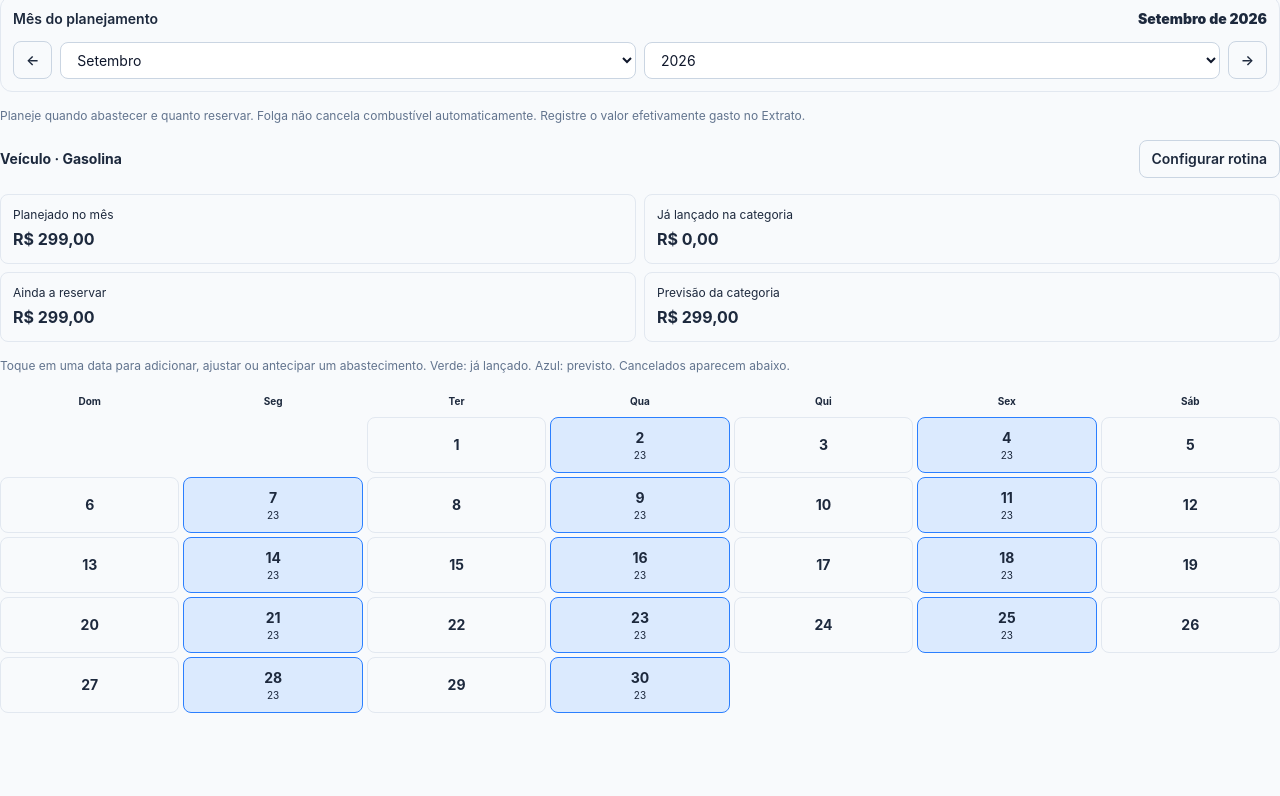
Test: antecipa sexta para quinta com valor parcial e mostra o resultado salvo
Click the button named "Abastecimento 11/09": click(1007, 505) top-left (917, 477), bottom-right (1096, 533)
(page scrolled)
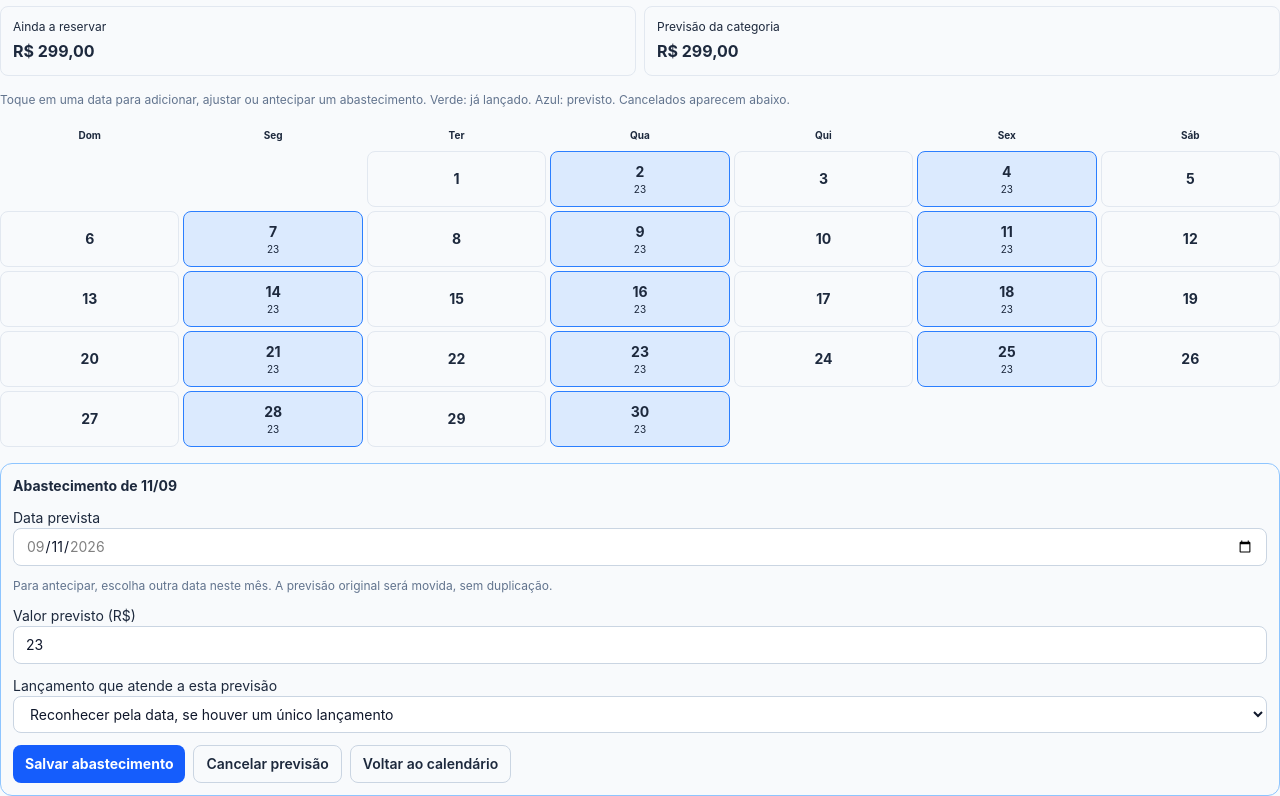
In the date field labelled "Data prevista": (640, 547) top-left (13, 528), bottom-right (1267, 566), type "2026-09-10"
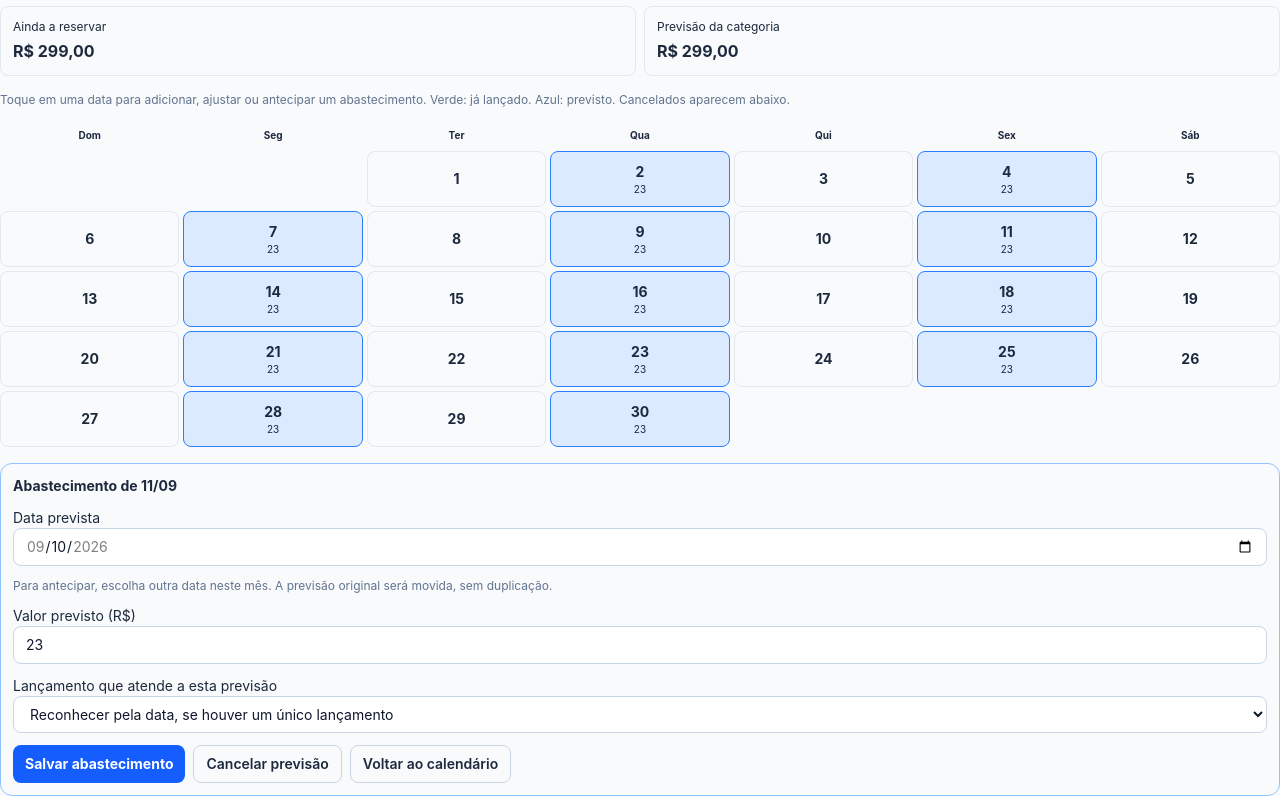
Replace the text in the number field labelled "Valor previsto (R$)" with "11.50": (640, 645) top-left (13, 626), bottom-right (1267, 664)
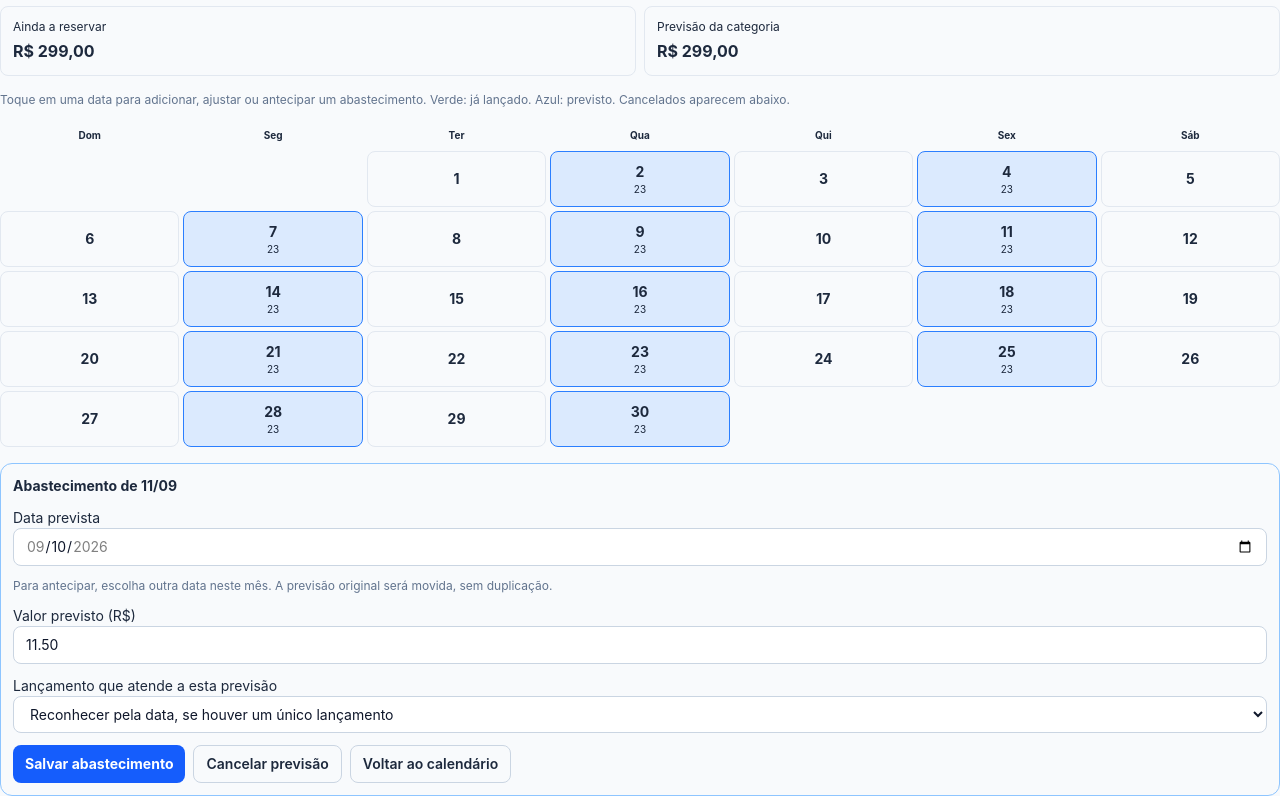
Click the button "Salvar abastecimento": click(99, 764) top-left (13, 745), bottom-right (186, 783)
(page scrolled)
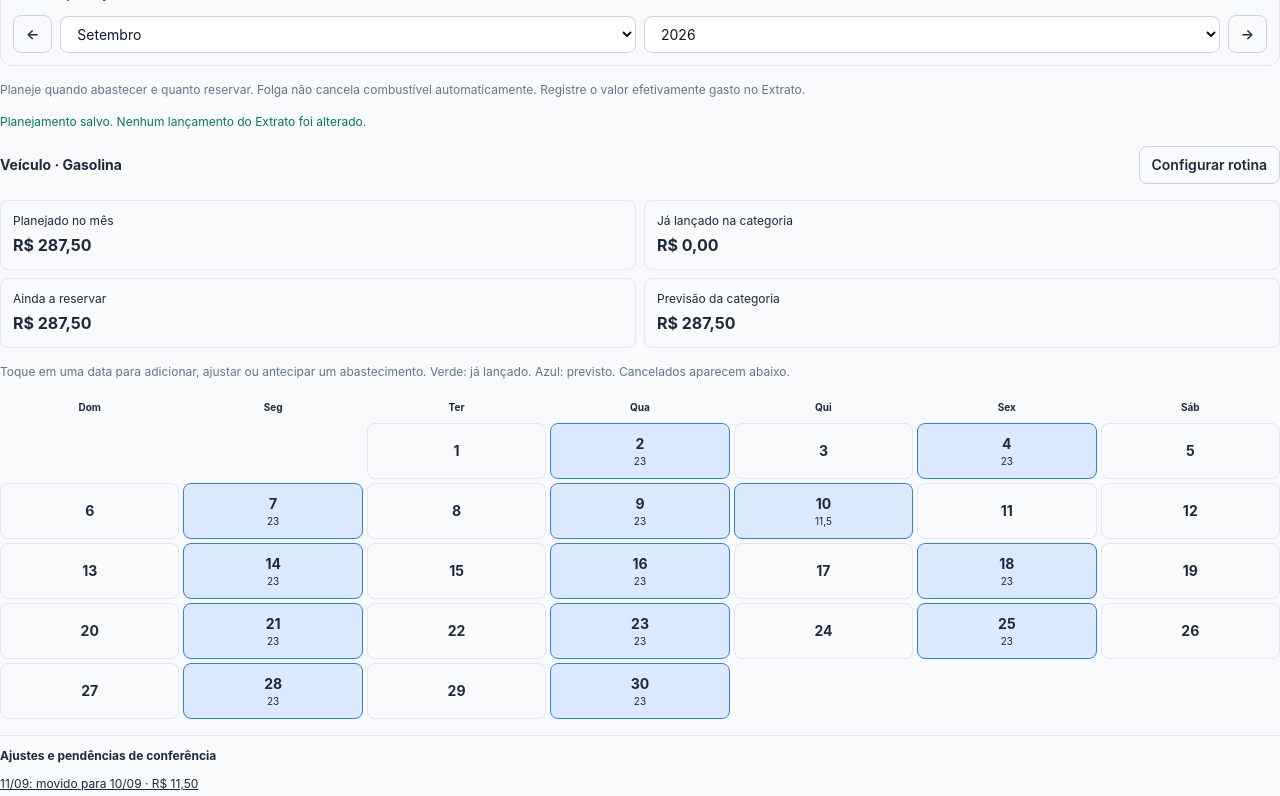
Expected: the text "Planejamento salvo. Nenhum lançamento do Extrato foi alterado." is shown, top-left (0, 114), bottom-right (366, 129)
Expected: the button "10 11,5" is shown, top-left (734, 483), bottom-right (913, 539)
Expected: the button named "Abastecimento 11/09, sem previsão" is shown, top-left (917, 483), bottom-right (1096, 539)
